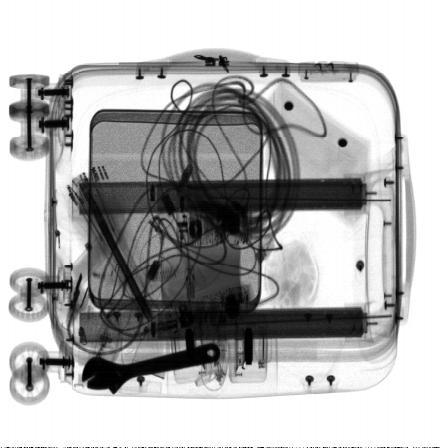Wrench: (82, 343, 221, 395)
